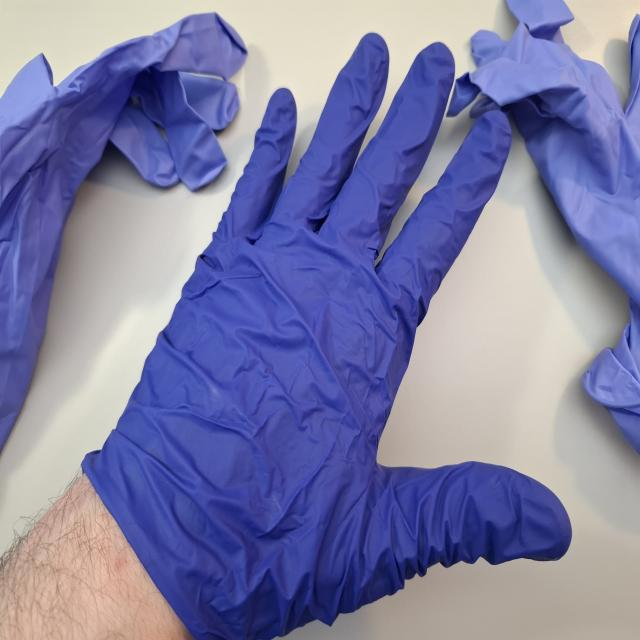glove_on: (74, 29, 576, 640)
